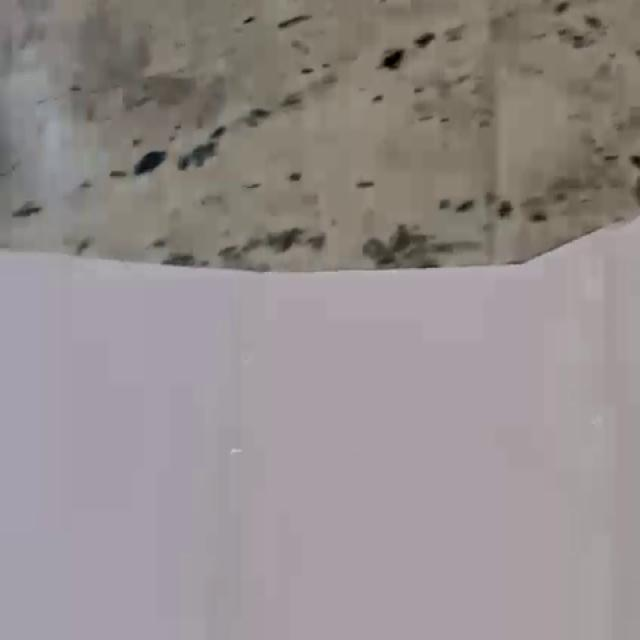road: (0, 215, 640, 640)
